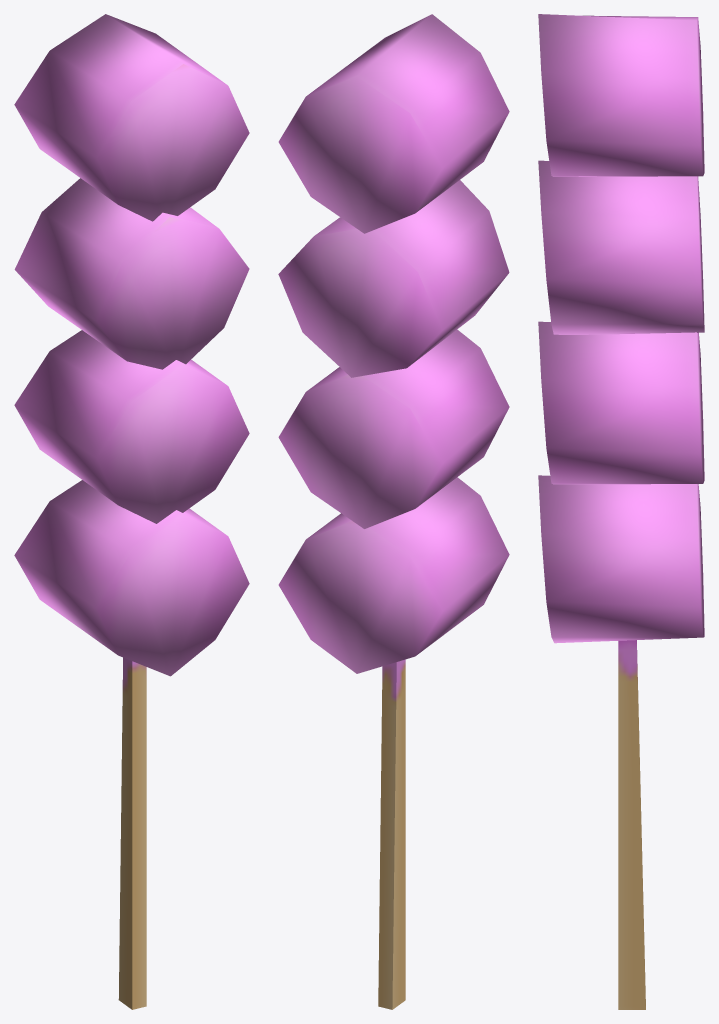
File: jsf_ChocolateBanana_b01_c02.fbx
3 views of the same model, side by side, from view 1: azimuth 30°, elevation 25°; view 2: azimuth 150°, elevation 25°; view 3: azimuth 270°, elevation 25° (orthographic). The views are drawn at different scales.
Parts seen in each view (by area): view 1: jsf_ChocolateBanana_b01_c02; view 2: jsf_ChocolateBanana_b01_c02; view 3: jsf_ChocolateBanana_b01_c02.
Part boxes in pixels (left/top/right/bottom): jsf_ChocolateBanana_b01_c02: left=14, top=14, right=249, bottom=1009; jsf_ChocolateBanana_b01_c02: left=278, top=14, right=509, bottom=1009; jsf_ChocolateBanana_b01_c02: left=538, top=14, right=704, bottom=1009.
Size of the model in its own units: 4.05 by 22.49 by 3.41.
